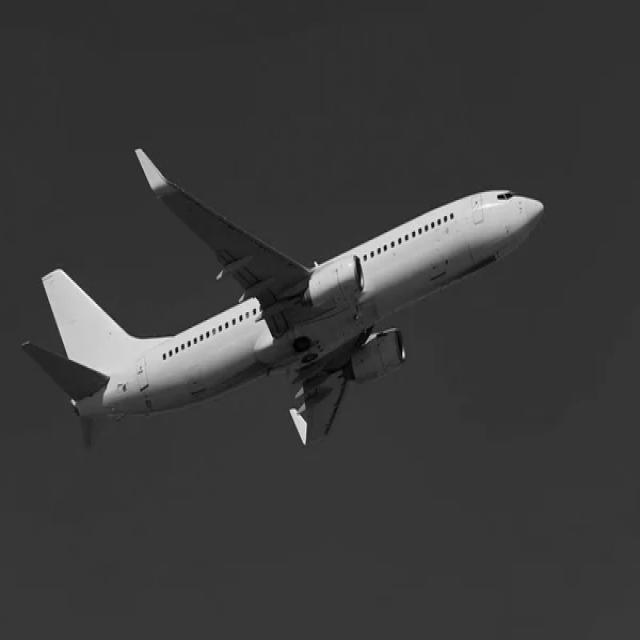Aircraft: (20, 130, 548, 480)
